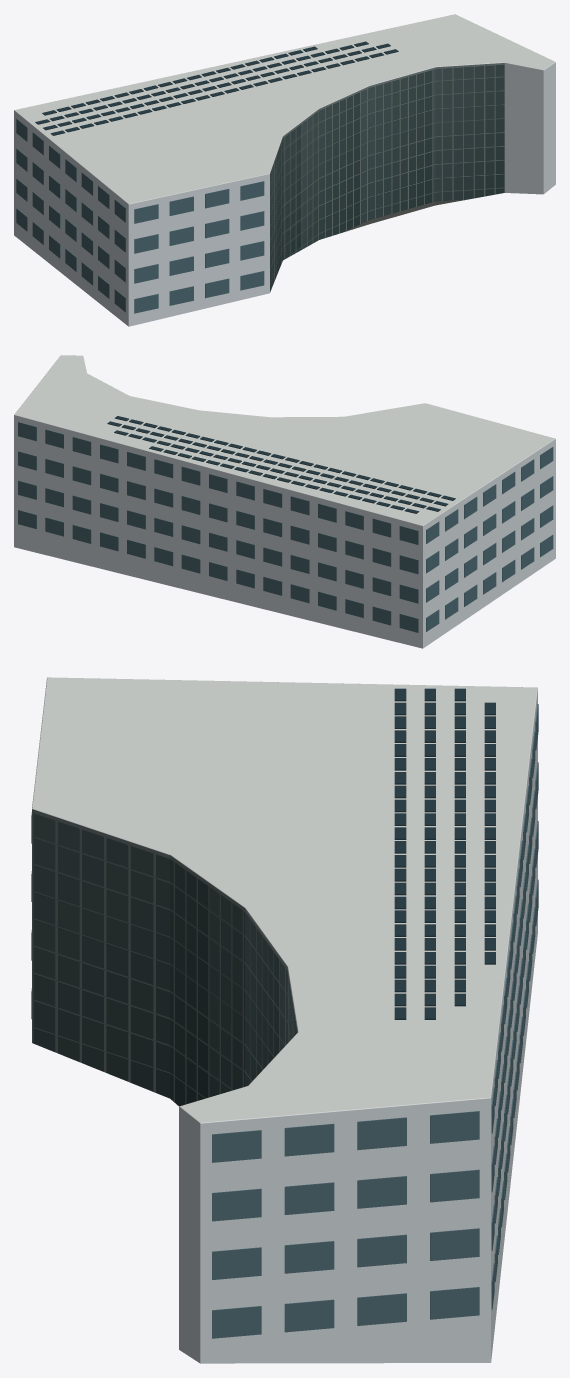
The model's file is intact.glb.
3 views of the same model, one above another, from view 1: azimuth 30°, elevation 25°; view 2: azimuth 150°, elevation 25°; view 3: azimuth 270°, elevation 25° (orthographic). The views are drawn at different scales.
Parts seen in each view (by area): view 1: SM_sculpture_Intact_00, SM_sculpture_Intact_01, SM_sculpture_Intact_02; view 2: SM_sculpture_Intact_00, SM_sculpture_Intact_01, SM_sculpture_Intact_02; view 3: SM_sculpture_Intact_00, SM_sculpture_Intact_01, SM_sculpture_Intact_02.
Part boxes in pixels (box(x1,y1,x2,y2)): SM_sculpture_Intact_00: box(14, 14, 555, 326); SM_sculpture_Intact_01: box(16, 118, 264, 313); SM_sculpture_Intact_02: box(35, 41, 398, 135); SM_sculpture_Intact_00: box(14, 355, 555, 648); SM_sculpture_Intact_01: box(18, 422, 553, 632); SM_sculpture_Intact_02: box(107, 416, 455, 513); SM_sculpture_Intact_00: box(32, 677, 537, 1363); SM_sculpture_Intact_01: box(31, 704, 538, 1338); SM_sculpture_Intact_02: box(394, 688, 495, 1019).
Bounding box in the file's own units: 2.2 × 0.6276 × 1.06.
Materials: 5 (1 with a texture image).
